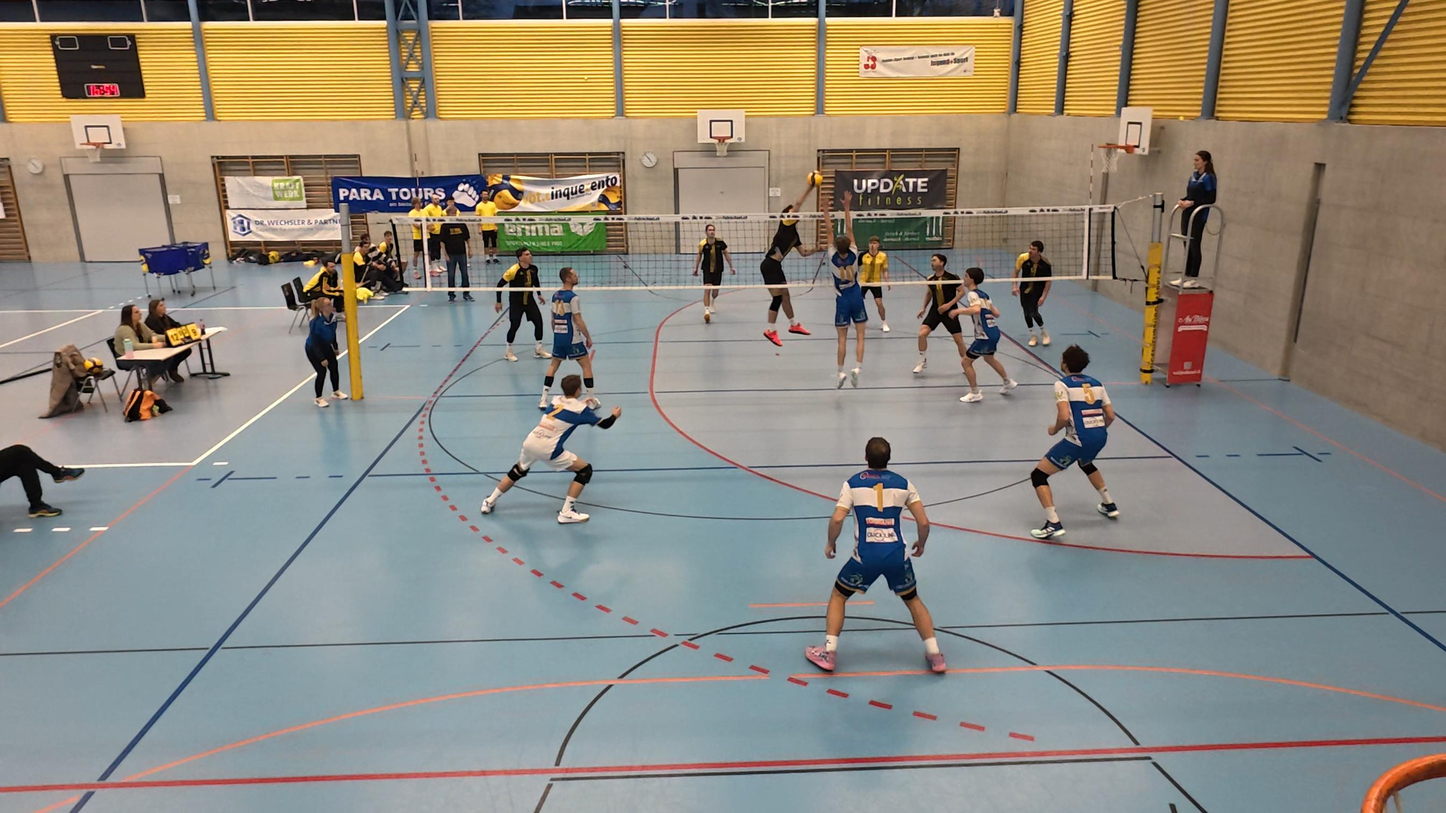attacco: (751, 170, 821, 351)
muro: (817, 185, 867, 397)
